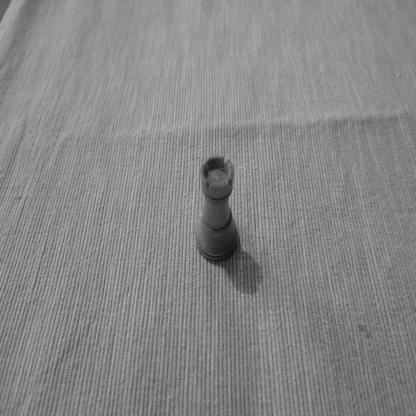white-rook: (194, 153, 238, 263)
